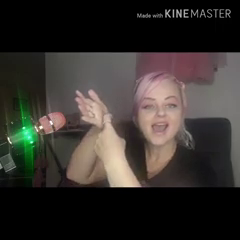R: (73, 85, 132, 158)
